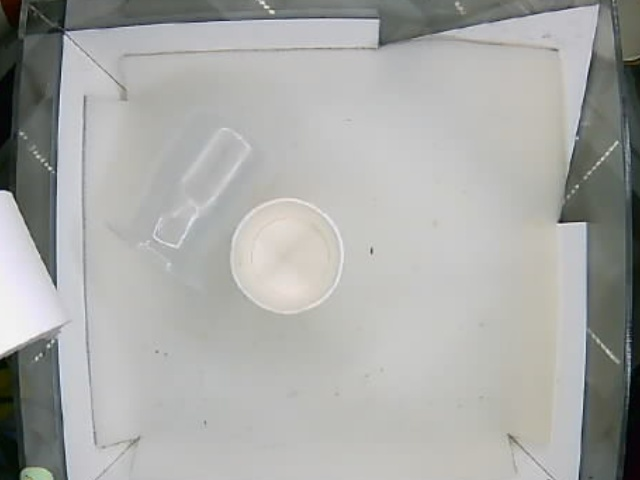Bottle: (113, 117, 255, 284)
Cup: (227, 196, 345, 318)
